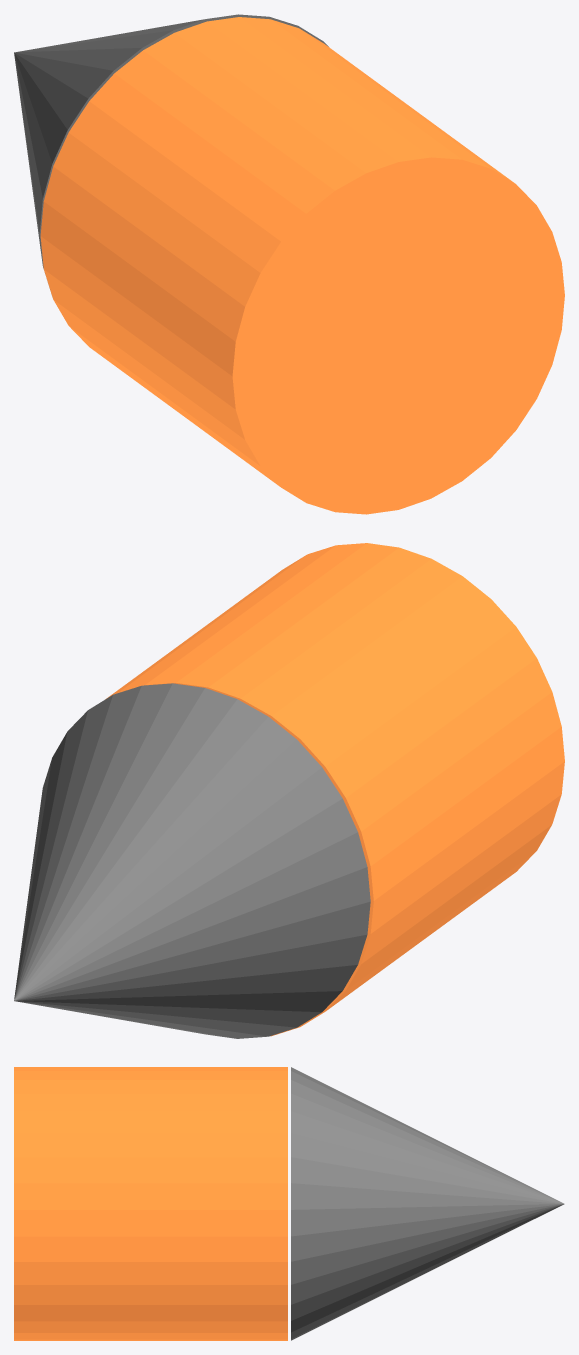
The model's file is bullet.glb.
3 views of the same model, one above another, from view 1: azimuth 30°, elevation 25°; view 2: azimuth 150°, elevation 25°; view 3: azimuth 270°, elevation 25° (orthographic). The views are drawn at different scales.
Visible parts, largest first — view 1: Cylinder, Cone; view 2: Cone, Cylinder; view 3: Cylinder, Cone.
Part boxes in pixels (box(x1,y1,x2,y2)): Cylinder: box(40, 17, 564, 514); Cone: box(14, 14, 328, 268); Cone: box(14, 683, 370, 1038); Cylinder: box(105, 543, 564, 1036); Cylinder: box(14, 1067, 287, 1340); Cone: box(291, 1067, 564, 1340).
Size of the model in its own units: 2.01 by 2 by 4.02.
